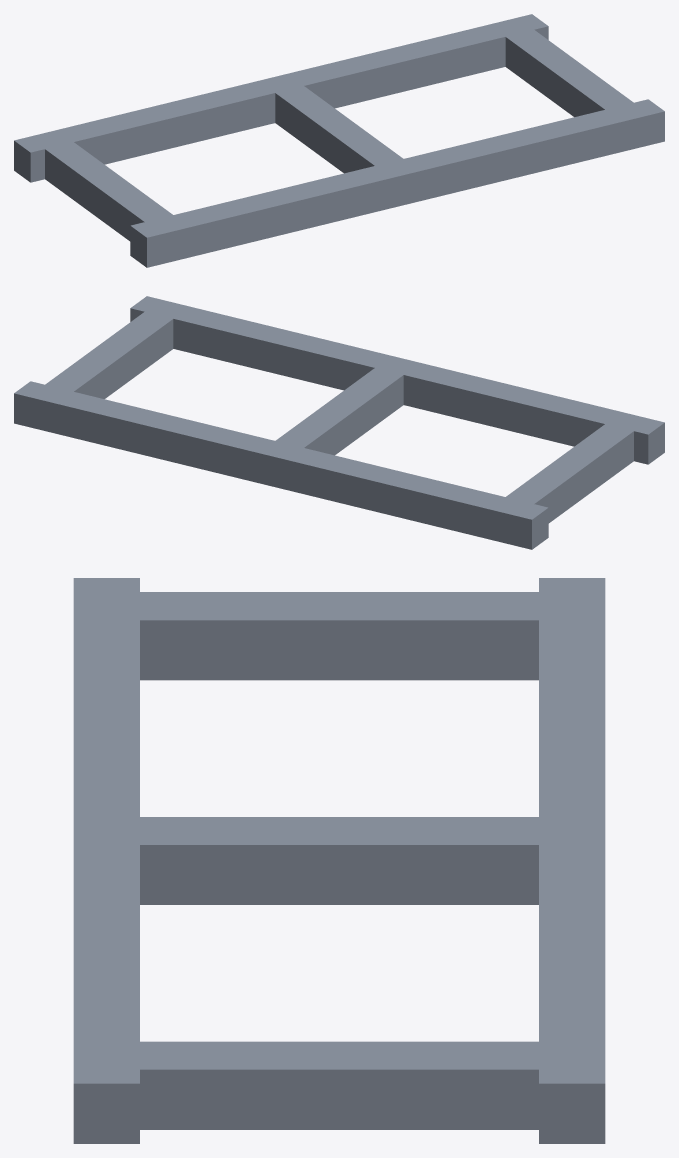
The model's file is step-1.glb.
3 renders of one model, top to bottom at view 1: azimuth 30°, elevation 25°; view 2: azimuth 150°, elevation 25°; view 3: azimuth 270°, elevation 25°, orthographic. The views are drawn at different scales.
Parts seen in each view (by area): view 1: face_2b64949b2819b27157f9, face_d85b668a0006ba6affbe, face_b6fab3d4a9dbbcaf1519, face_3e9cd110ecaf1841d03a, face_246edf2abe85ad273bca, face_7c4ae456088e469ec514, face_33a8f4dffb24ee1c8c36, face_572b31d5e4087ec181a8, face_1eef27825c9454512c06, face_4904973848762d86ab76; view 2: face_2b64949b2819b27157f9, face_80b5e0dae24f9436188f, face_bc4d6481ef769fb29cba, face_bf1306e5727f1e8a53bb, face_246edf2abe85ad273bca, face_7c4ae456088e469ec514, face_33a8f4dffb24ee1c8c36, face_572b31d5e4087ec181a8, face_1eef27825c9454512c06, face_bb82e6c78e4ee8cb7552; view 3: face_2b64949b2819b27157f9, face_14de0b3180eca4220d2a, face_eaa270c082d40c3f3501, face_f7f6948fa4251880c2cf, face_27a02da4b4b9ff2baa63, face_976867df65dec3c6b524.
Boxes of the visible parts, x1,y1,x2,y2 form: face_2b64949b2819b27157f9: (14, 14, 664, 237); face_d85b668a0006ba6affbe: (147, 111, 664, 267); face_b6fab3d4a9dbbcaf1519: (74, 93, 275, 164); face_3e9cd110ecaf1841d03a: (304, 37, 505, 108); face_246edf2abe85ad273bca: (45, 149, 144, 241); face_7c4ae456088e469ec514: (505, 37, 604, 117); face_33a8f4dffb24ee1c8c36: (275, 93, 374, 173); face_572b31d5e4087ec181a8: (130, 226, 146, 267); face_1eef27825c9454512c06: (14, 141, 30, 182); face_4904973848762d86ab76: (30, 149, 44, 182); face_2b64949b2819b27157f9: (14, 296, 664, 519); face_80b5e0dae24f9436188f: (14, 393, 531, 549); face_bc4d6481ef769fb29cba: (403, 375, 604, 446); face_bf1306e5727f1e8a53bb: (173, 319, 374, 390); face_246edf2abe85ad273bca: (534, 431, 633, 523); face_7c4ae456088e469ec514: (74, 319, 173, 399); face_33a8f4dffb24ee1c8c36: (304, 375, 403, 455); face_572b31d5e4087ec181a8: (648, 423, 664, 464); face_1eef27825c9454512c06: (532, 508, 548, 549); face_bb82e6c78e4ee8cb7552: (634, 431, 648, 464); face_2b64949b2819b27157f9: (73, 578, 605, 1083); face_14de0b3180eca4220d2a: (140, 620, 538, 680); face_eaa270c082d40c3f3501: (140, 1069, 538, 1129); face_f7f6948fa4251880c2cf: (140, 845, 538, 904); face_27a02da4b4b9ff2baa63: (73, 1083, 139, 1143); face_976867df65dec3c6b524: (539, 1083, 605, 1143).
Size of the model in its own units: 0.18 by 0.01 by 0.08.
